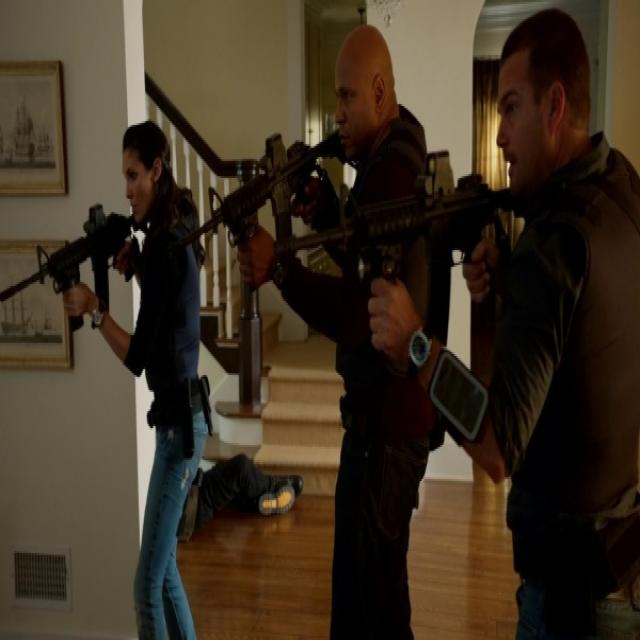rifle: (277, 163, 522, 304), (178, 123, 345, 285), (1, 204, 130, 366)
